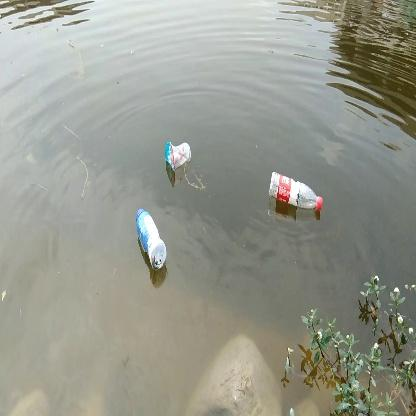plastic bottle: (267, 170, 324, 210), (133, 210, 166, 271)
